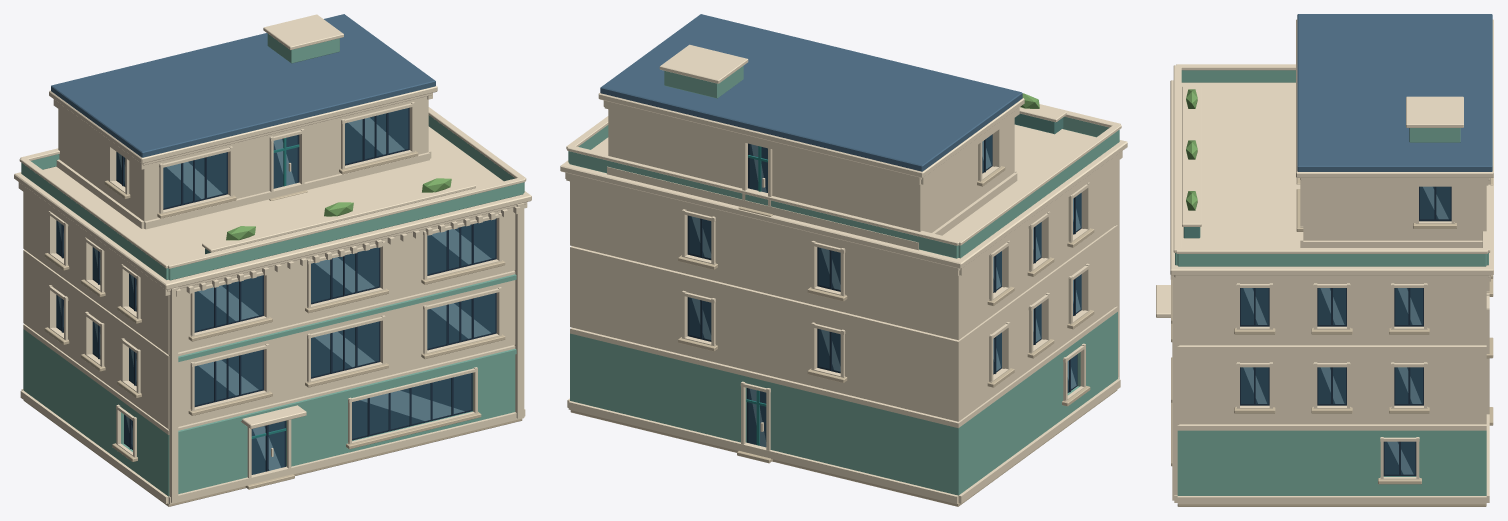
File: terrace_office_block.glb
3 renders of one model, left to right at view 1: azimuth 30°, elevation 25°; view 2: azimuth 150°, elevation 25°; view 3: azimuth 270°, elevation 25°, orthographic. The views are drawn at different scales.
Parts seen in each view (by area): view 1: TerraceOfficeBlock_StaticMesh; view 2: TerraceOfficeBlock_StaticMesh; view 3: TerraceOfficeBlock_StaticMesh.
Part boxes in pixels (x1=…): TerraceOfficeBlock_StaticMesh: x1=14, y1=14, x2=531, y2=506; TerraceOfficeBlock_StaticMesh: x1=560, y1=14, x2=1127, y2=506; TerraceOfficeBlock_StaticMesh: x1=1156, y1=14, x2=1493, y2=506.
Size of the model in its own units: 15.72 by 13.35 by 11.82.
